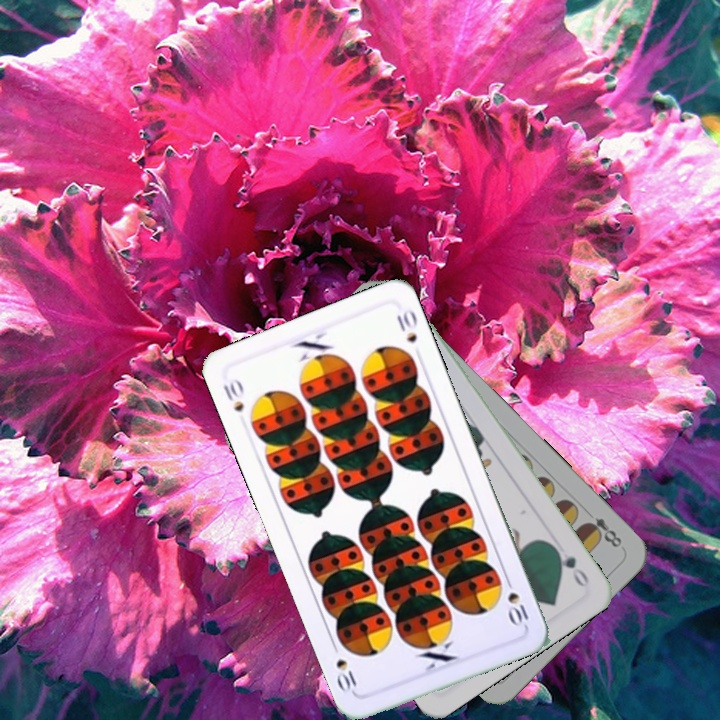E8: (580, 513, 625, 550)
GO: (548, 541, 592, 591)
S10: (501, 572, 531, 629), (219, 379, 247, 415)
